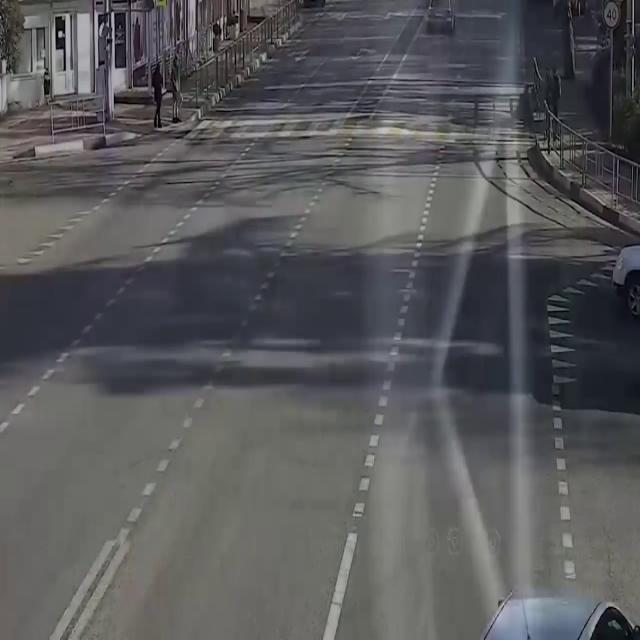noaccident: (225, 4, 599, 504)
